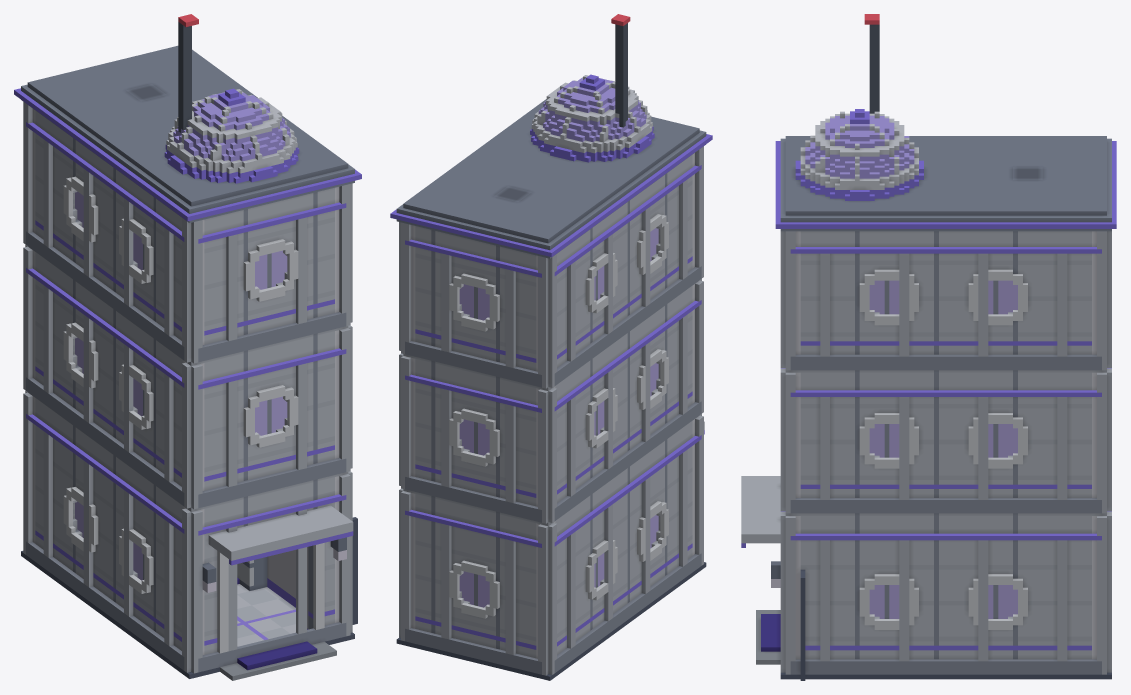
The picture shows the model from 3 angles, left to right: view 1: azimuth 30°, elevation 25°; view 2: azimuth 150°, elevation 25°; view 3: azimuth 270°, elevation 25°; orthographic projection. The views are drawn at different scales.
Parts seen in each view (by area): view 1: CutUpper, Base, CutNX, CutPZ, CutNZ; view 2: CutUpper, CutNZ, CutNX, Base, CutPZ; view 3: CutUpper, CutPX, Base, CutPZ, CutNZ.
Boxes of the visible parts, bbox=[...] form: CutUpper: bbox=[14, 14, 361, 511]; Base: bbox=[21, 512, 357, 680]; CutNX: bbox=[26, 398, 184, 623]; CutPZ: bbox=[182, 471, 357, 632]; CutNZ: bbox=[23, 390, 35, 515]; CutUpper: bbox=[390, 14, 712, 526]; CutNZ: bbox=[399, 488, 556, 637]; CutNX: bbox=[554, 421, 701, 629]; Base: bbox=[396, 526, 706, 680]; CutPZ: bbox=[692, 414, 704, 529]; CutUpper: bbox=[775, 14, 1116, 515]; CutPX: bbox=[790, 516, 1101, 634]; Base: bbox=[756, 610, 1111, 680]; CutPZ: bbox=[741, 476, 805, 640]; CutNZ: bbox=[1092, 511, 1111, 634].
Bounding box in the file's own units: 4.2 × 13.5 × 7.6.
